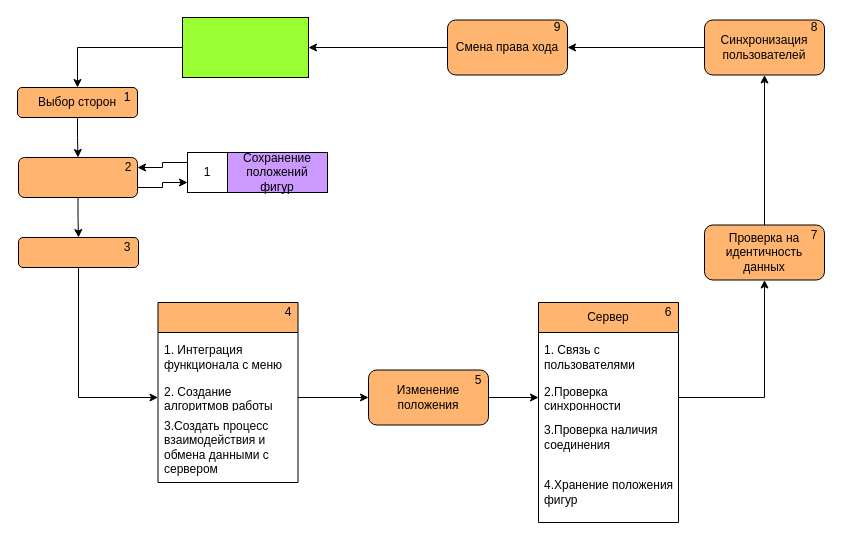
The diagram is 842 pixels wide and 540 high, and some of its shapes have lost their labels. The shapes that lost their labels are listed below. From the top down, each one's box as (x1, y1, x2, y2) in pixels, then its label:
(182, 16, 308, 78): Пользователи
(18, 156, 138, 198): Ход пользователя
(18, 236, 138, 268): Проверка на правильность
(157, 302, 298, 482): "ШАХМАТЫ"
